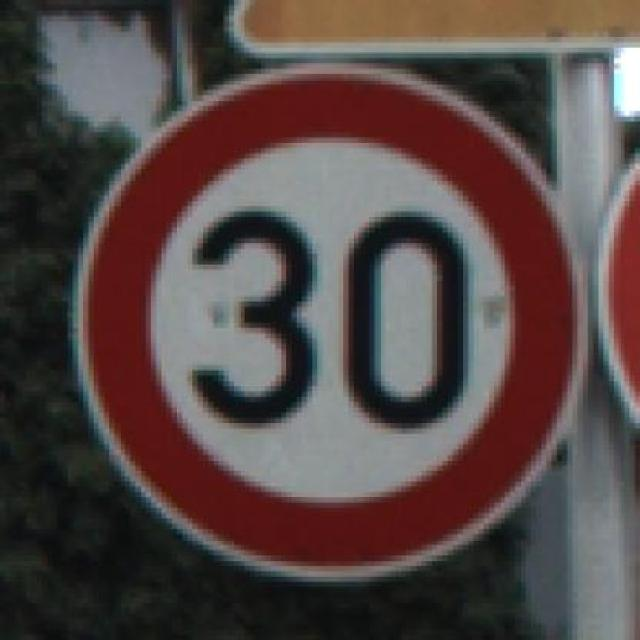Speed Limit 30 KMPh: (36, 52, 593, 603)
